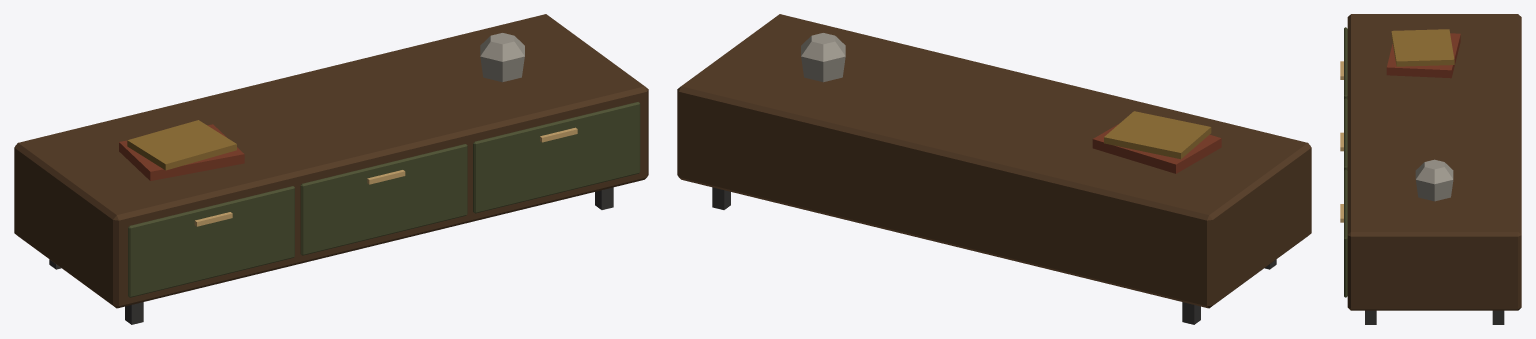
3 views of the same model, side by side, from view 1: azimuth 30°, elevation 25°; view 2: azimuth 150°, elevation 25°; view 3: azimuth 270°, elevation 25° (orthographic). The views are drawn at different scales.
Parts seen in each view (by area): view 1: furniture_11_shelf_rare_sideboard; view 2: furniture_11_shelf_rare_sideboard; view 3: furniture_11_shelf_rare_sideboard.
Part boxes in pixels (<box>): furniture_11_shelf_rare_sideboard: <box>14,14,648,324</box>; furniture_11_shelf_rare_sideboard: <box>677,14,1311,324</box>; furniture_11_shelf_rare_sideboard: <box>1340,14,1521,324</box>.
Bounding box in the file's own units: 3.6 × 1 × 1.25.
